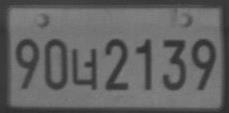0: (43, 38, 68, 89)
1: (133, 38, 158, 91)
2: (104, 37, 129, 90)
3: (161, 38, 187, 91)
9: (190, 37, 216, 90), (14, 37, 40, 89)
너: (71, 48, 96, 90)
